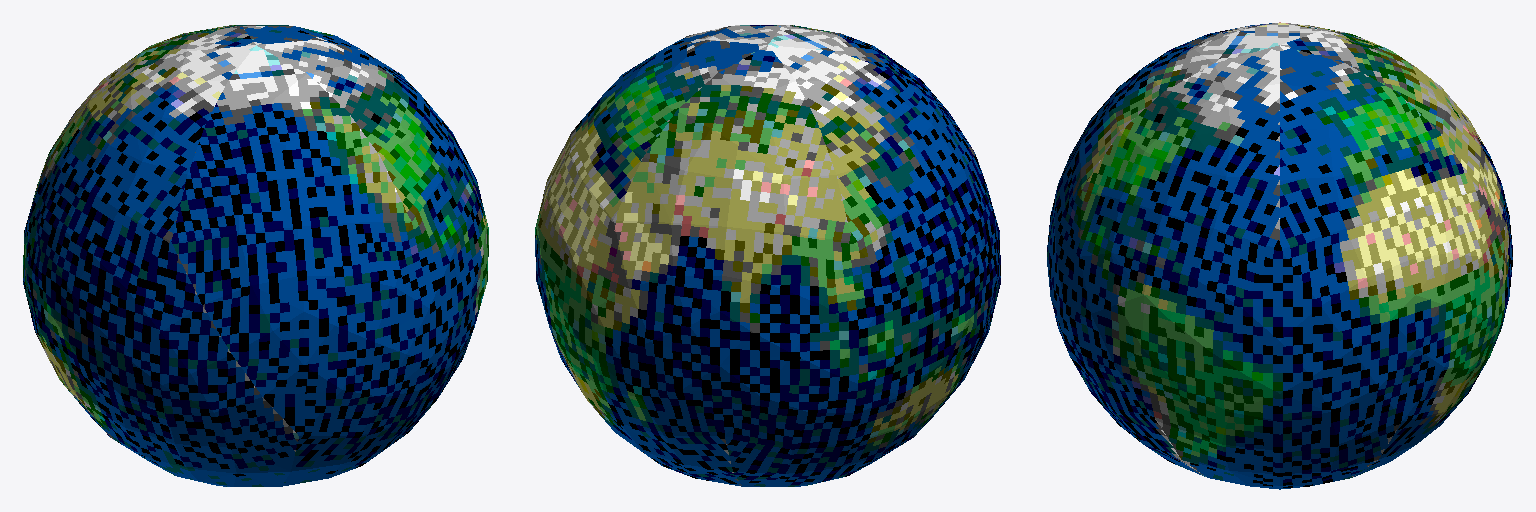
The picture shows the model from 3 angles: view 1: azimuth 30°, elevation 25°; view 2: azimuth 150°, elevation 25°; view 3: azimuth 270°, elevation 25°; orthographic projection.
Parts seen in each view (by area): view 1: Icosphere; view 2: Icosphere; view 3: Icosphere.
Boxes of the visible parts, x1=… form: Icosphere: x1=23, y1=25, x2=488, y2=486; Icosphere: x1=535, y1=25, x2=1000, y2=486; Icosphere: x1=1047, y1=22, x2=1512, y2=489.
Bounding box in the file's own units: 1.49 × 1.48 × 1.49.
Materials: 1 (1 with a texture image).